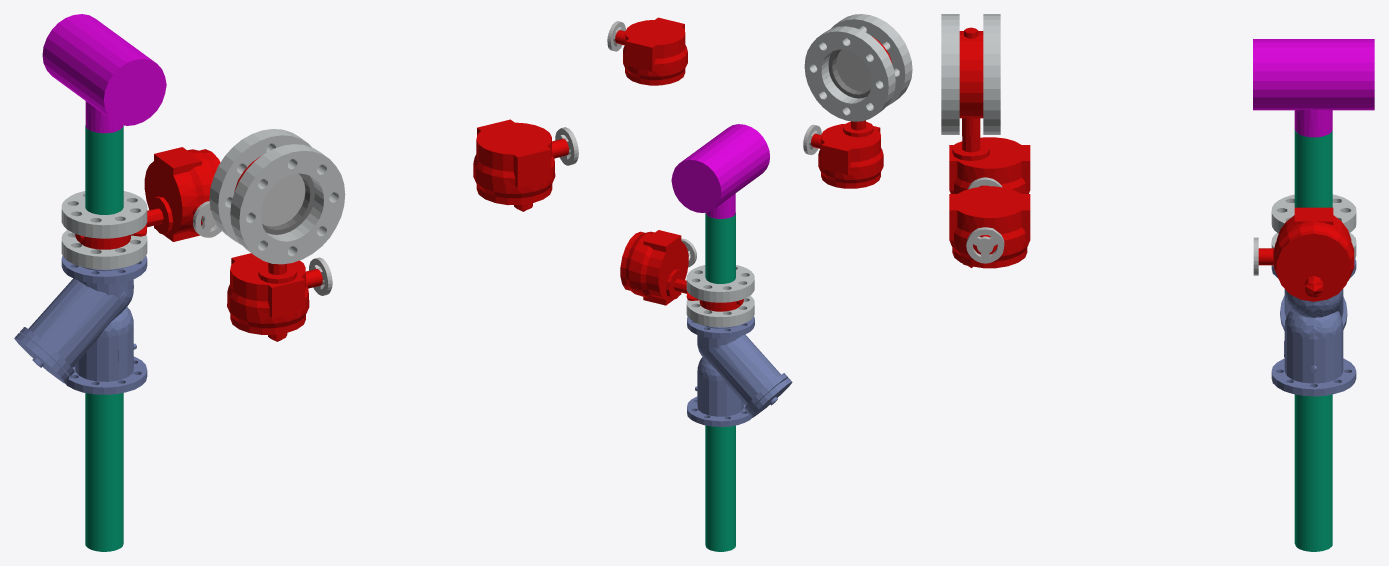
3 views of the same model, side by side, from view 1: azimuth 30°, elevation 25°; view 2: azimuth 150°, elevation 25°; view 3: azimuth 270°, elevation 25° (orthographic). The views are drawn at different scales.
Bounding box in the file's own units: 1.03 × 1.36 × 1.02.
